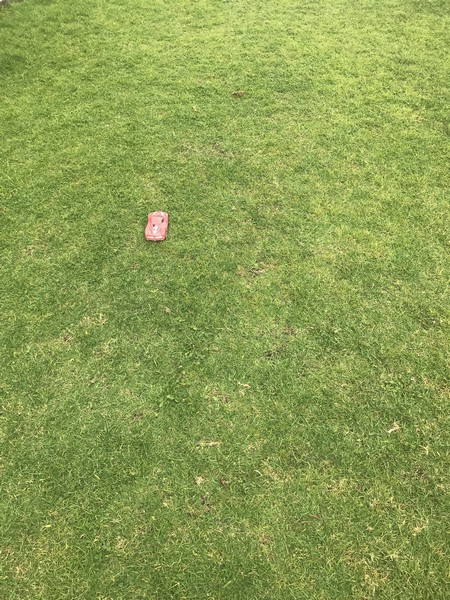RC: (143, 209, 172, 242)
